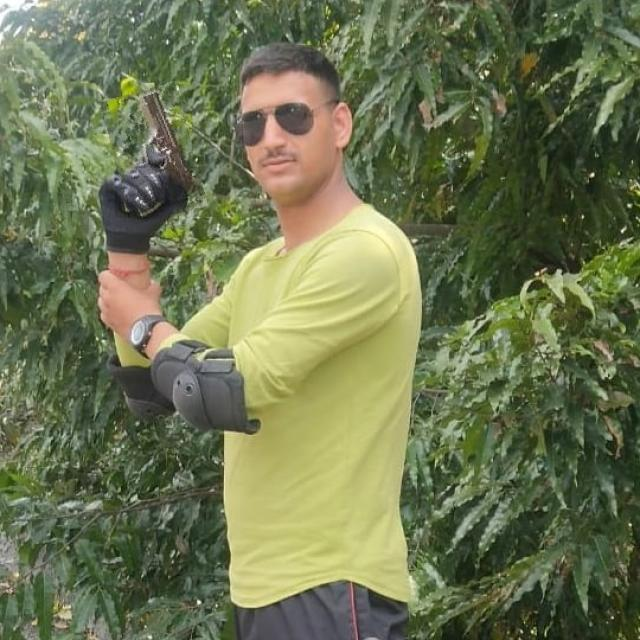handgun: (108, 86, 200, 222)
